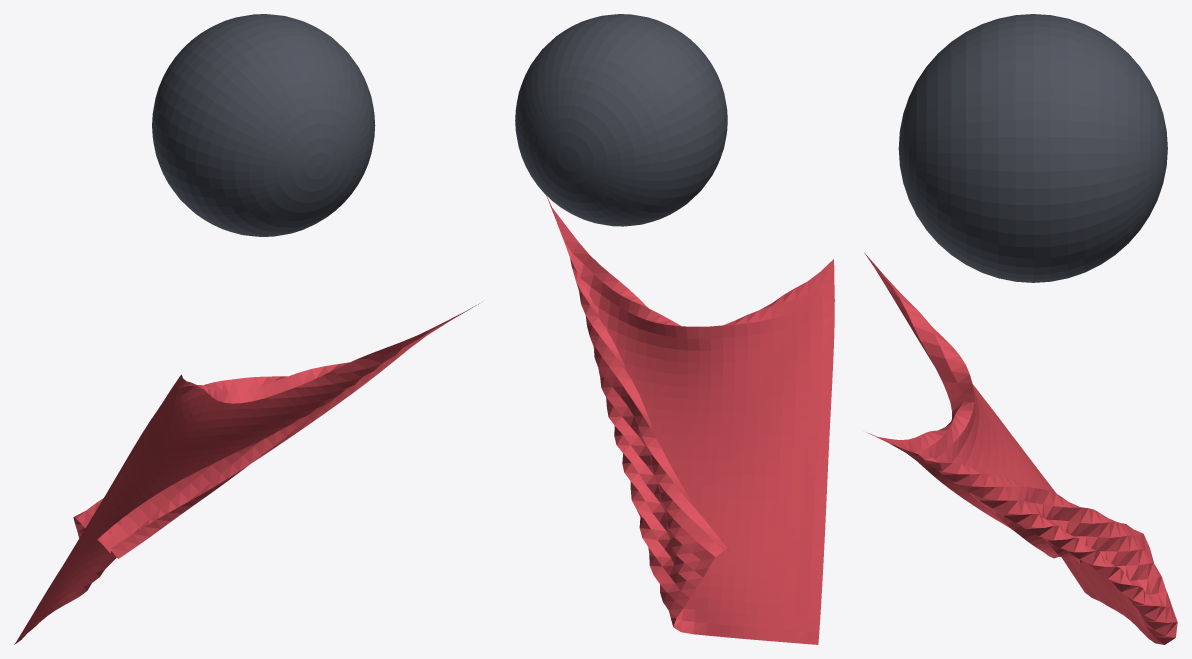
The picture shows the model from 3 angles, left to right: view 1: azimuth 30°, elevation 25°; view 2: azimuth 150°, elevation 25°; view 3: azimuth 270°, elevation 25°; orthographic projection. The views are drawn at different scales.
Parts seen in each view (by area): view 1: cloth_drape; view 2: cloth_drape; view 3: cloth_drape.
Boxes of the visible parts, x1,y1,x2,y2 form: cloth_drape: (14, 14, 479, 644); cloth_drape: (515, 14, 834, 644); cloth_drape: (864, 14, 1177, 644).
Bounding box in the file's own units: 7.48 × 10.91 × 4.44.
